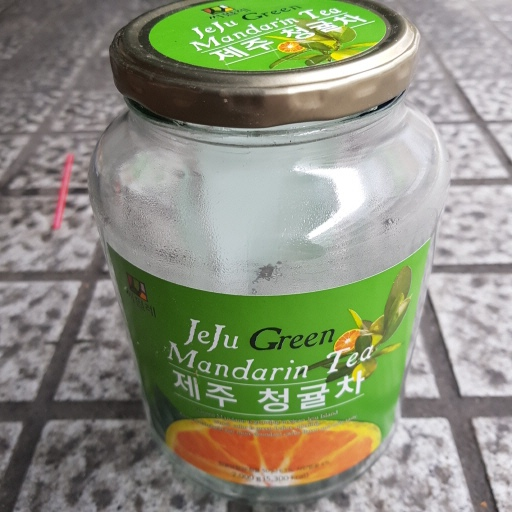Glass_5: (87, 1, 448, 496)
